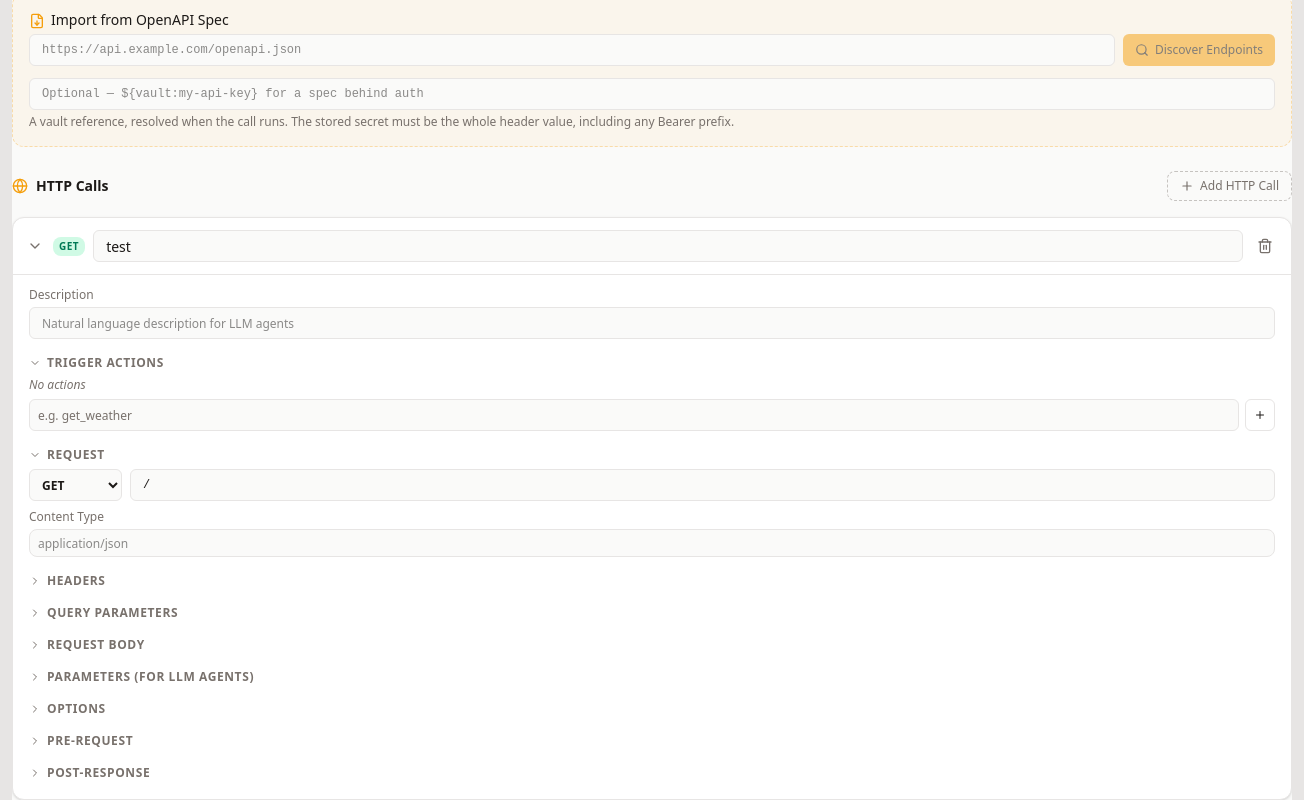
Test case: ApiCallsEditor › shows saveResponse additional fields when saveResponse is enabled
(page scrolled)
// Options section is collapsed by default - open it first
Click the button "Options" at (67, 709), box [29,701,106,717]
(page scrolled)
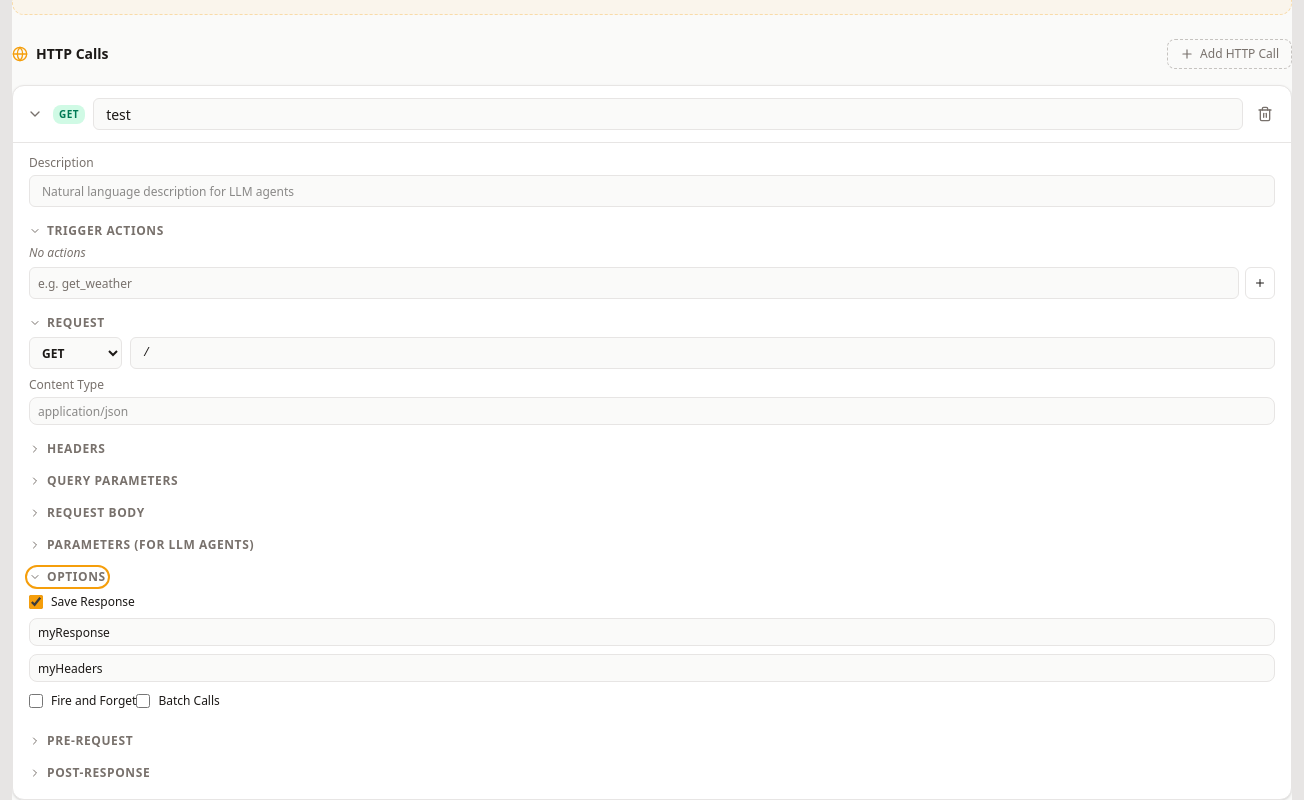
Expected: the 3rd field showing "myResponse" is shown, [29,618,1275,646]
Expected: the 4th field showing "myHeaders" is shown, [29,654,1275,682]
